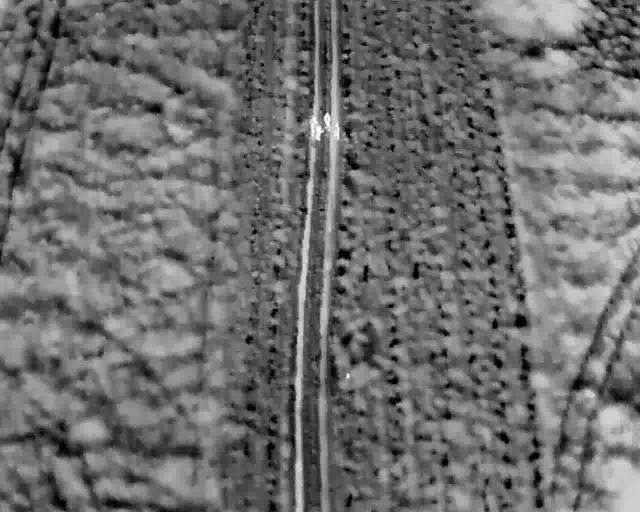person: (322, 111, 333, 131), (313, 121, 324, 141), (308, 115, 318, 135), (333, 120, 341, 141)
